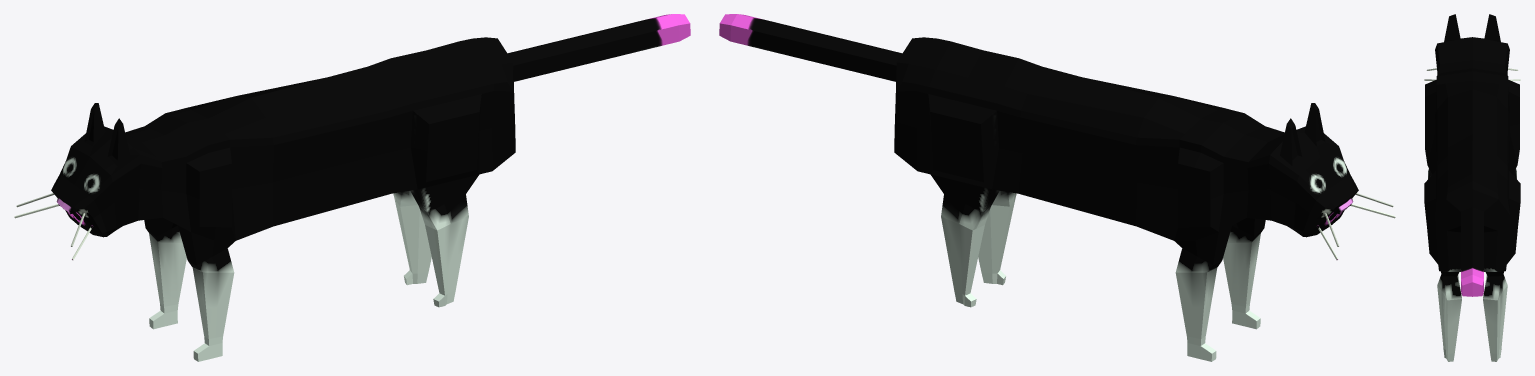
Rendered from cat.glb.
3 views of the same model, side by side, from view 1: azimuth 30°, elevation 25°; view 2: azimuth 150°, elevation 25°; view 3: azimuth 270°, elevation 25° (orthographic). The views are drawn at different scales.
Visible parts, largest first — view 1: Cat; view 2: Cat; view 3: Cat.
Boxes of the visible parts, box(x1,y1,x2,y2) form: Cat: box(14, 14, 690, 361); Cat: box(719, 14, 1395, 361); Cat: box(1424, 14, 1520, 361).
Size of the model in its own units: 4.66 by 1.81 by 0.7366.
Materials: 1 (1 with a texture image).
